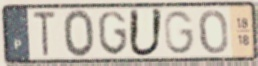G: (96, 9, 130, 57), (162, 9, 196, 56)
O: (62, 8, 97, 60), (197, 8, 230, 56)
T: (31, 10, 58, 59)
U: (127, 8, 166, 59)
